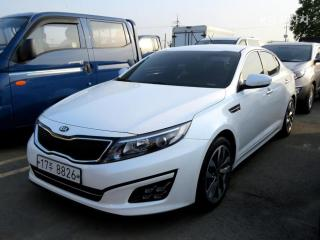1: (40, 158, 44, 168)
2: (66, 166, 72, 179)
6: (71, 169, 77, 181)
7: (44, 159, 49, 172)
8: (60, 165, 67, 177), (56, 164, 60, 174)
주: (48, 161, 54, 171)
